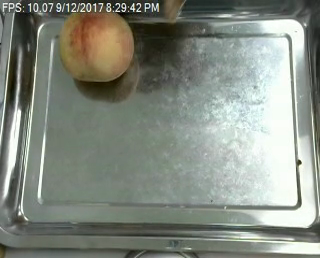Peach: (58, 6, 135, 83)
